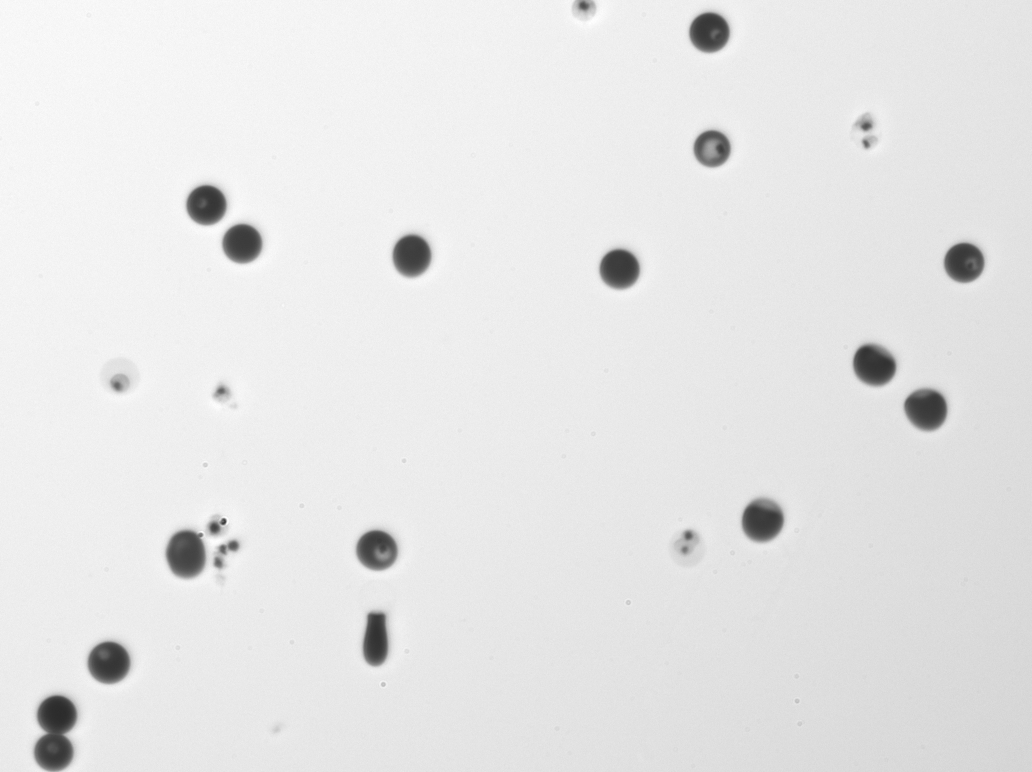healthy: (166, 528, 206, 580), (903, 388, 948, 432), (852, 343, 897, 387), (741, 497, 784, 542), (392, 234, 432, 278), (222, 223, 263, 264), (599, 248, 640, 289), (360, 611, 389, 667), (37, 693, 78, 732)
misc: (206, 511, 238, 567), (672, 525, 707, 566), (101, 358, 135, 395), (852, 114, 882, 153), (213, 383, 238, 414), (569, 0, 596, 20)
ring: (87, 640, 131, 683), (689, 12, 730, 54), (186, 185, 227, 225), (34, 734, 74, 771)
trophozoite: (355, 528, 398, 569), (943, 243, 984, 284), (692, 130, 731, 169)
